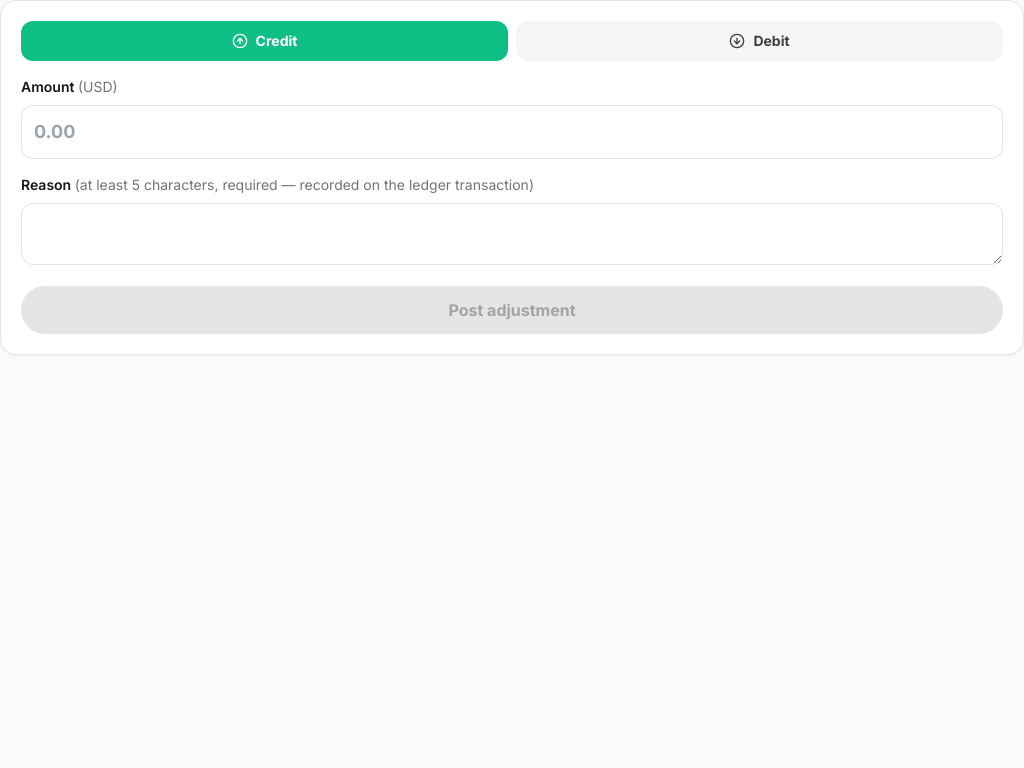
AdjustBalanceForm — manual balance adjustment › never posts the adjustment on the first click — a confirmation dialog gates the real-money mutation
Type "25" into the field with placeholder "0.00".
click(512, 132); type("25")  # box 21,105 -> 1003,159
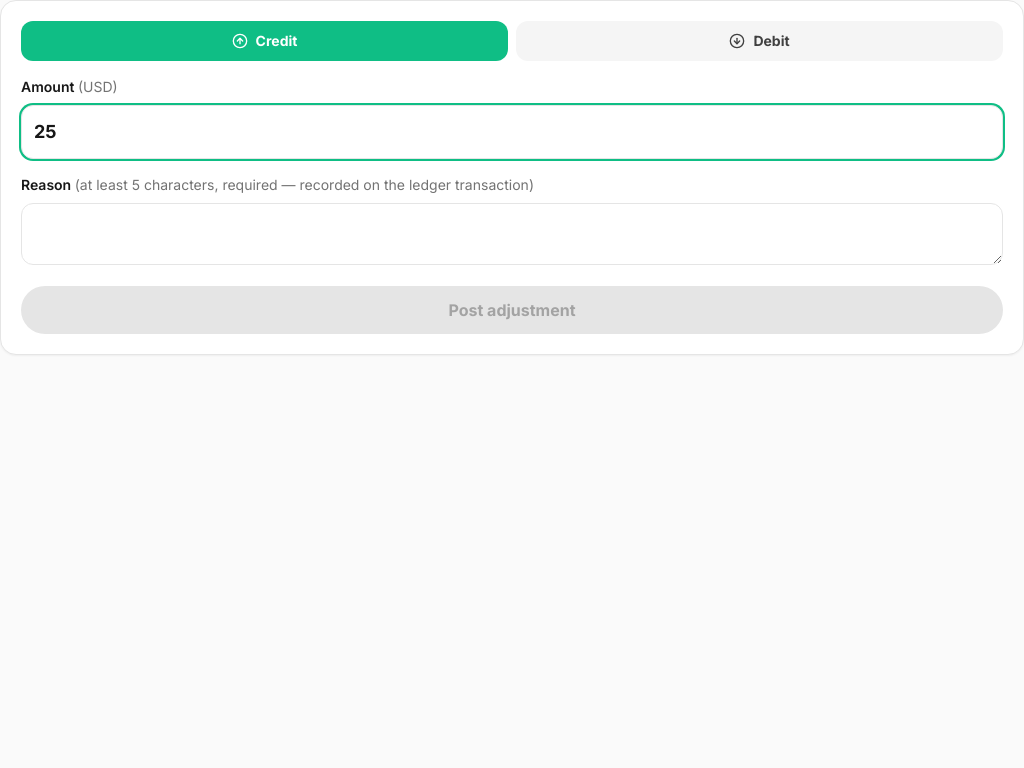
Type "goodwill credit" into the text box labelled "Reason".
click(512, 234); type("goodwill credit")  # box 21,203 -> 1003,265
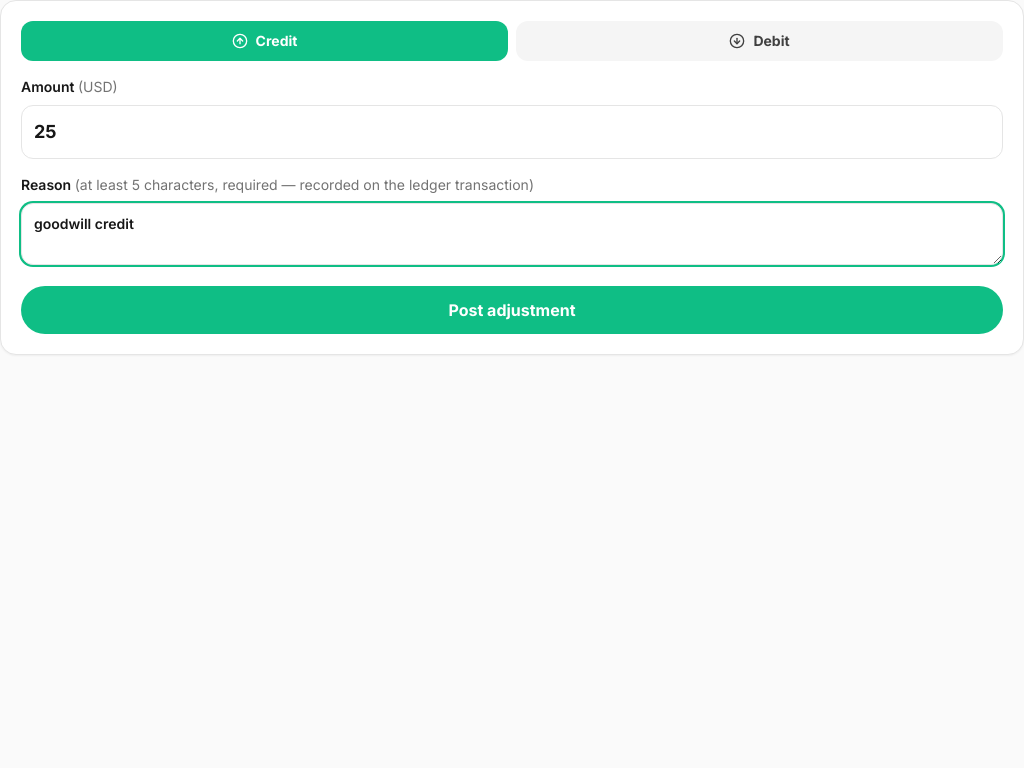
Click the button "Post adjustment".
click(512, 310)  # box 21,286 -> 1003,334
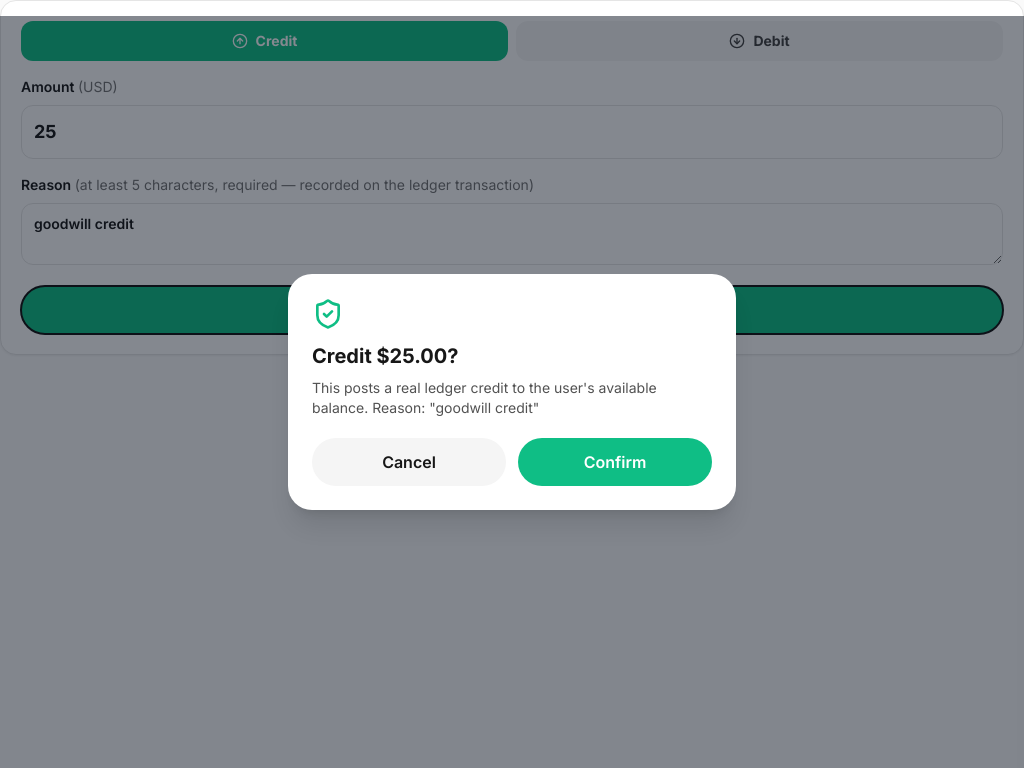
Now the dialog is shown
